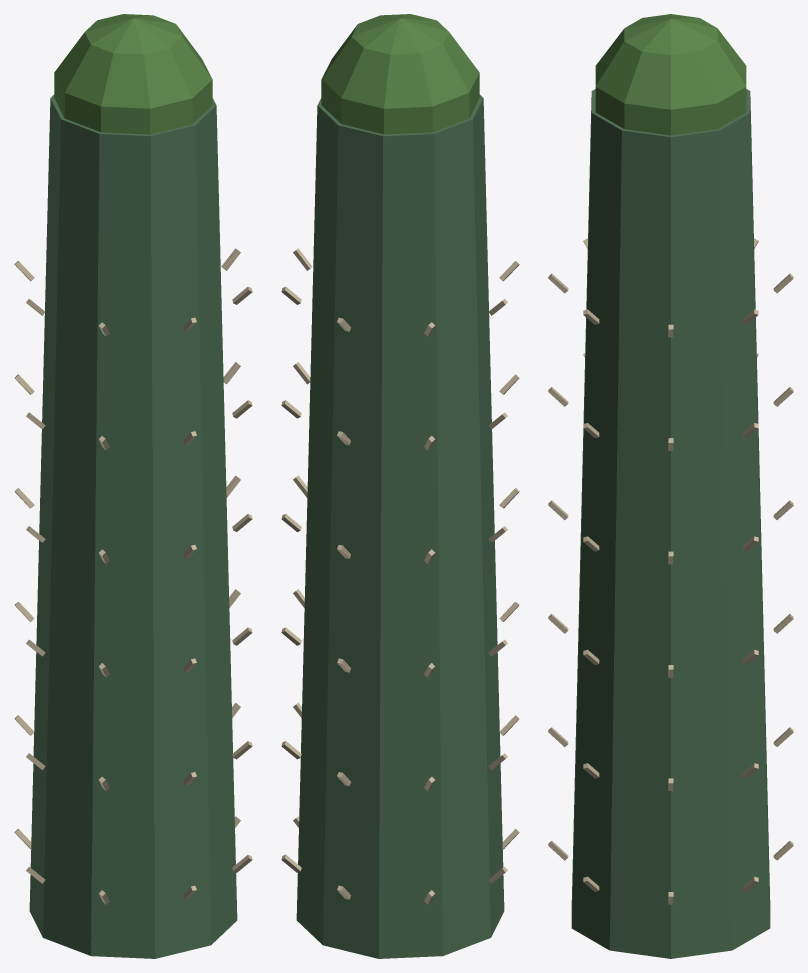
File: vegetation-cactus-column.lod1.glb
The picture shows the model from 3 angles, left to right: view 1: azimuth 30°, elevation 25°; view 2: azimuth 150°, elevation 25°; view 3: azimuth 270°, elevation 25°; orthographic projection.
Visible parts, largest first — view 1: vegetation-cactus-column__body; view 2: vegetation-cactus-column__body; view 3: vegetation-cactus-column__body.
Boxes of the visible parts, box(x1,y1,x2,y2) form: vegetation-cactus-column__body: box(14, 14, 252, 958); vegetation-cactus-column__body: box(281, 14, 519, 958); vegetation-cactus-column__body: box(548, 14, 793, 958).
Bounding box in the file's own units: 0.5881 × 2.37 × 0.5883.
